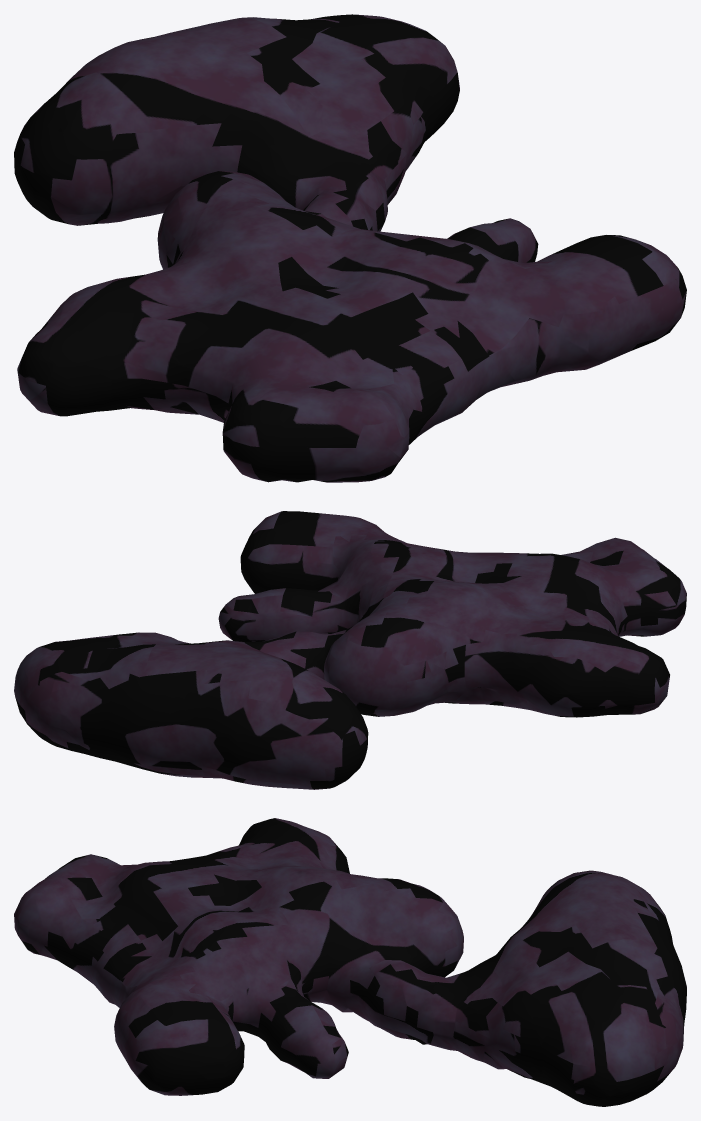
The model's file is Cave2.fbx.
3 views of the same model, one above another, from view 1: azimuth 30°, elevation 25°; view 2: azimuth 150°, elevation 25°; view 3: azimuth 270°, elevation 25° (orthographic). The views are drawn at different scales.
Visible parts, largest first — view 1: Mball.178; view 2: Mball.178; view 3: Mball.178.
Part boxes in pixels (<box>): Mball.178: <box>14,14,686,482</box>; Mball.178: <box>14,511,686,789</box>; Mball.178: <box>14,818,686,1106</box>.
Bounding box in the file's own units: 61.68 × 70.5 × 14.51.
